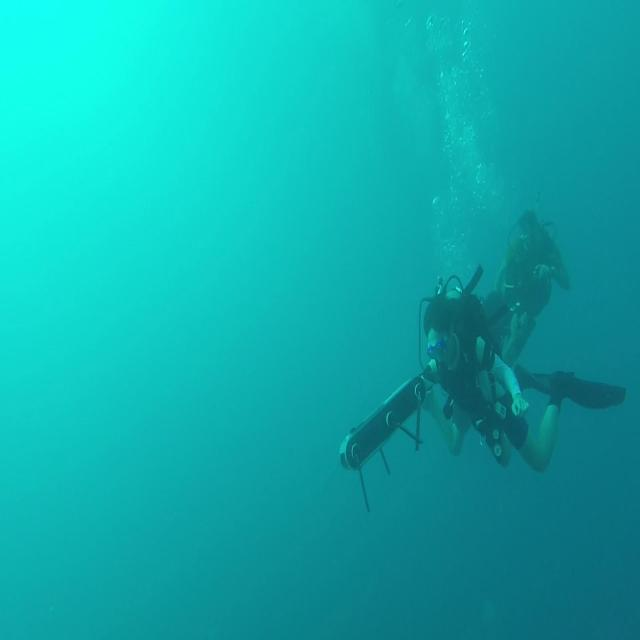human: (419, 276, 626, 472), (484, 208, 570, 370)
